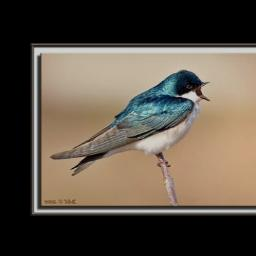Swallow: (48, 68, 214, 178)
